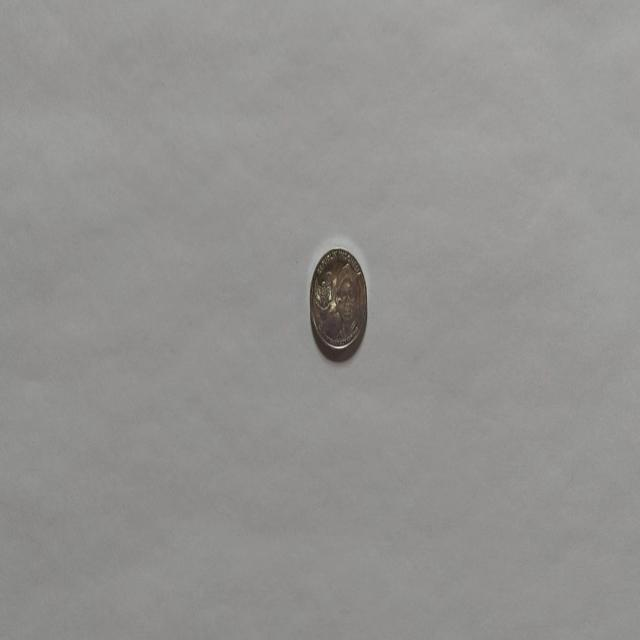dua ratus rupiah: (308, 245, 368, 361)
